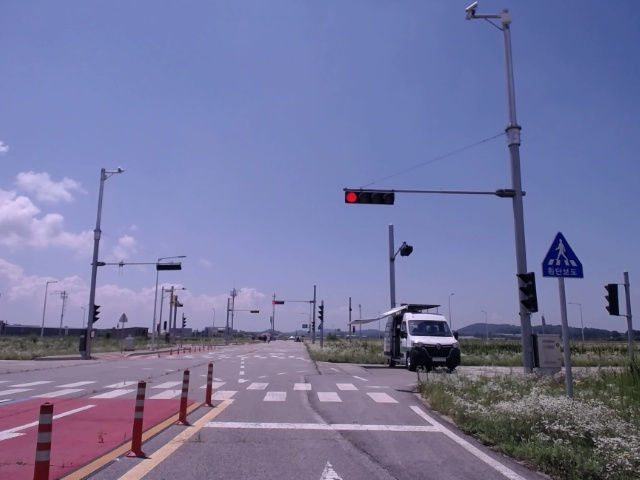red_4: (345, 191, 394, 205)
